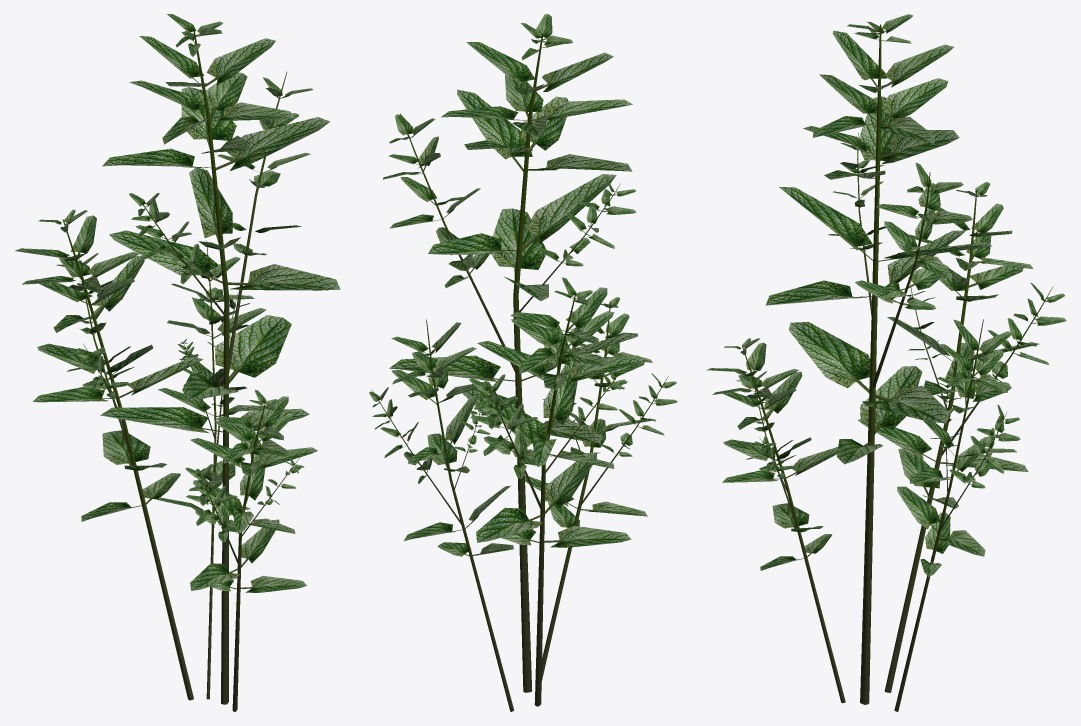
File: Peppermint2.fbx
The picture shows the model from 3 angles, left to right: view 1: azimuth 30°, elevation 25°; view 2: azimuth 150°, elevation 25°; view 3: azimuth 270°, elevation 25°; orthographic projection.
Visible parts, largest first — view 1: Peppermint2; view 2: Peppermint2; view 3: Peppermint2.
Part boxes in pixels (x1,y1,x2,y2): Peppermint2: (15,14,340,711); Peppermint2: (369,14,677,711); Peppermint2: (706,14,1066,711).
Size of the model in its own units: 39.82 by 103 by 49.47.
